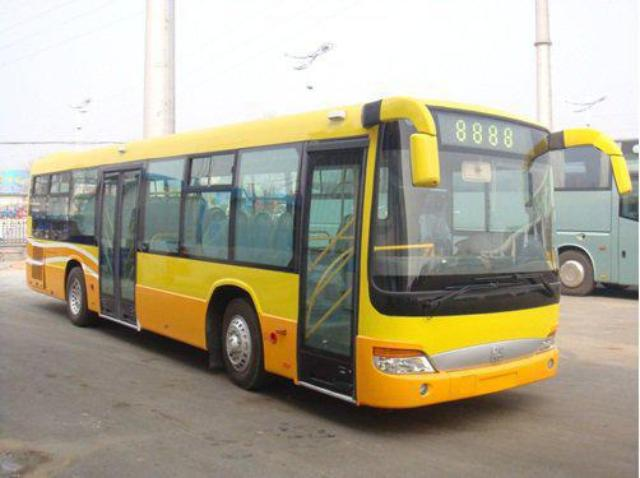bus: (18, 93, 635, 426)
